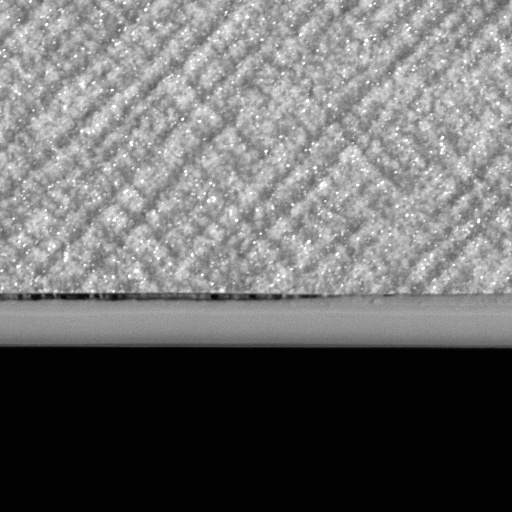jiaofeng: (0, 288, 328, 318)
